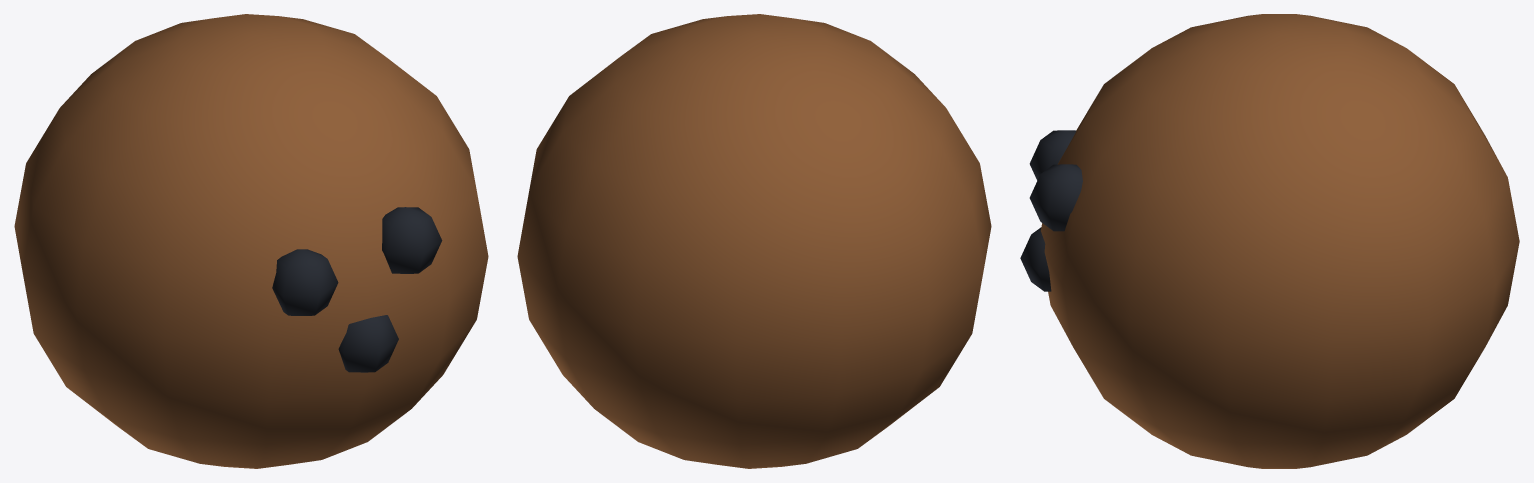
Rendered from coconut.glb.
3 renders of one model, left to right at view 1: azimuth 30°, elevation 25°; view 2: azimuth 150°, elevation 25°; view 3: azimuth 270°, elevation 25°, orthographic.
Parts seen in each view (by area): view 1: coconut; view 2: coconut; view 3: coconut.
Part boxes in pixels (<box>): coconut: <box>14,14,488,468</box>; coconut: <box>517,14,991,468</box>; coconut: <box>1020,14,1519,468</box>.
Bounding box in the file's own units: 0.2535 × 0.247 × 0.27.
